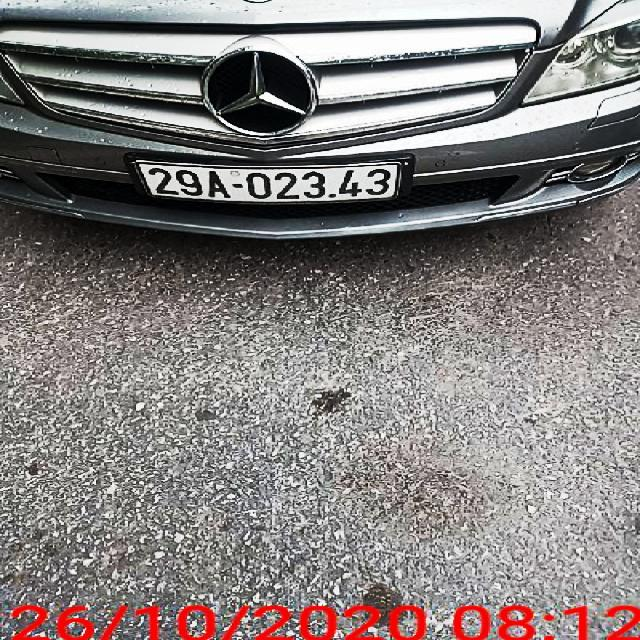license_plate: (139, 162, 404, 200)
